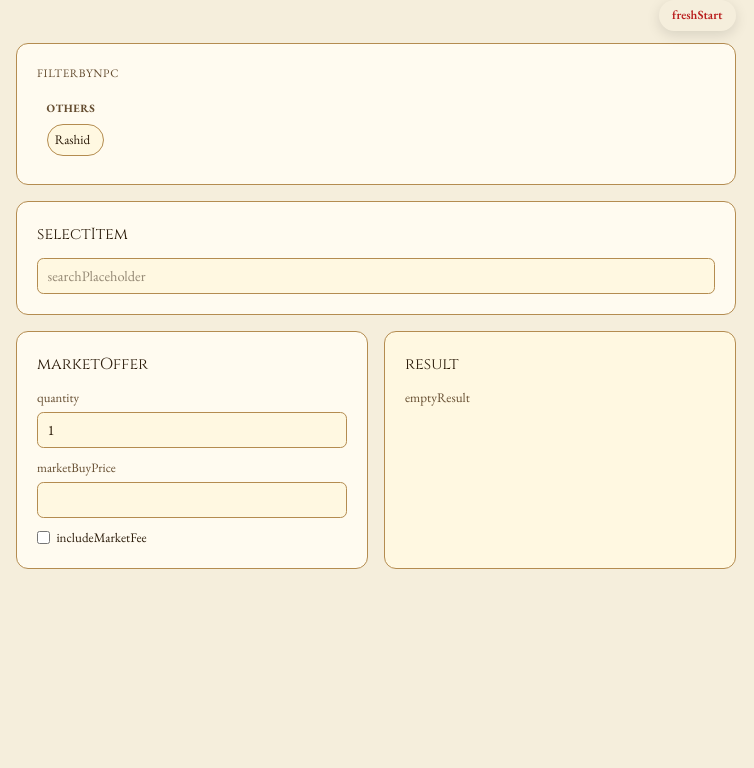
Test: TradeCalculator › adds item to cart
In the field with placeholder "searchPlaceholder": {"x": 376, "y": 276} x1=37 y1=258 x2=715 y2=294, type "gold"
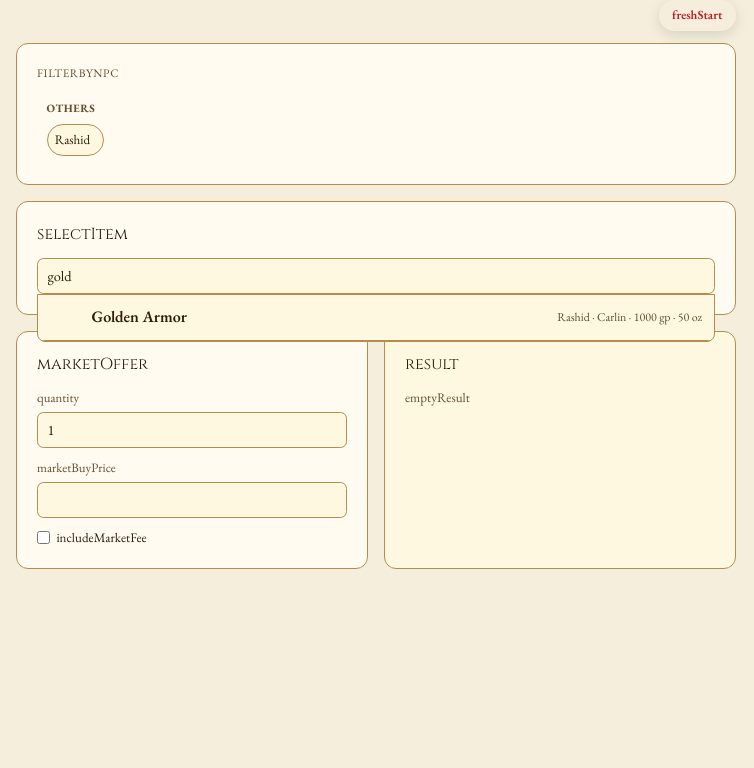
Click the text "Golden Armor": {"x": 139, "y": 317} x1=92 y1=306 x2=187 y2=327
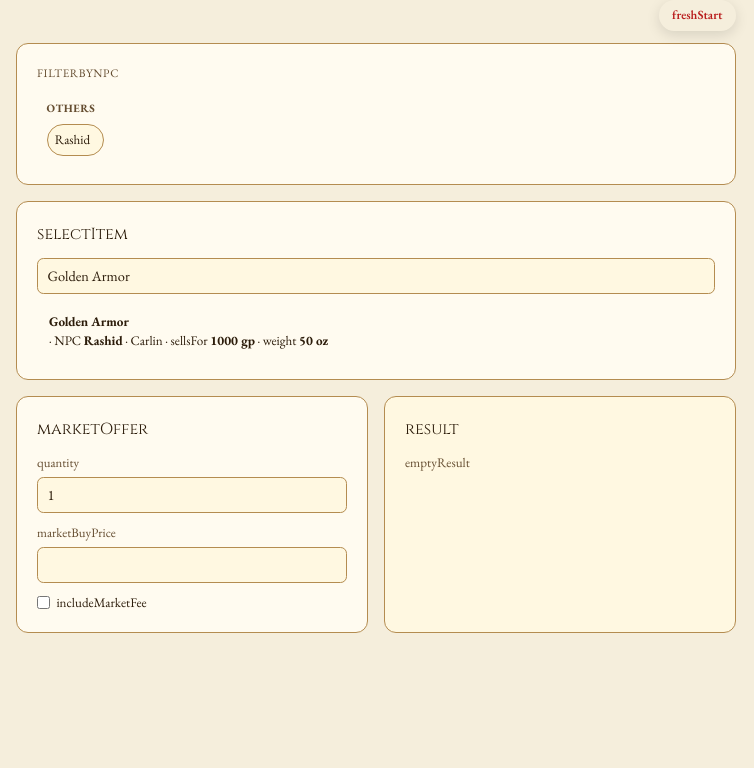
In the number field labelled "marketBuyPrice": {"x": 192, "y": 565} x1=37 y1=547 x2=347 y2=583, type "1000"
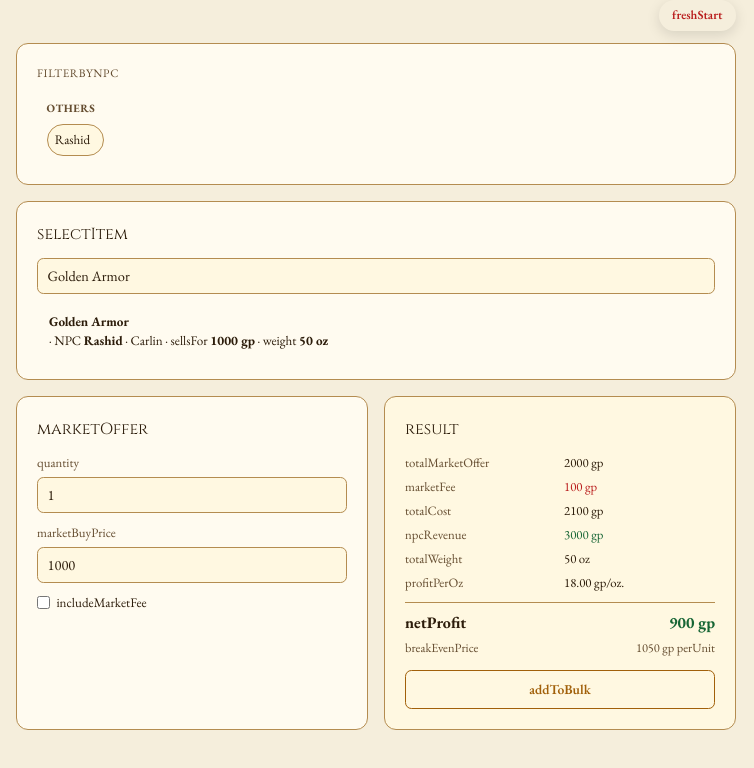
Click the button "addToBulk": {"x": 560, "y": 689} x1=405 y1=670 x2=715 y2=708
(page scrolled)
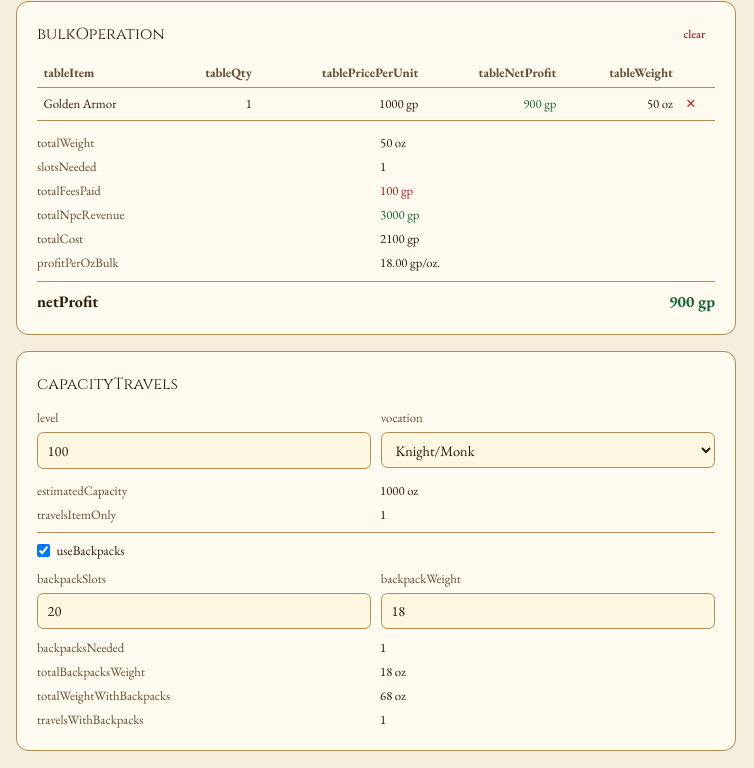
Expected: the heading "bulkOperation" is shown, x1=37 y1=22 x2=165 y2=46
Expected: the heading "capacityTravels" is shown, x1=37 y1=373 x2=178 y2=395
